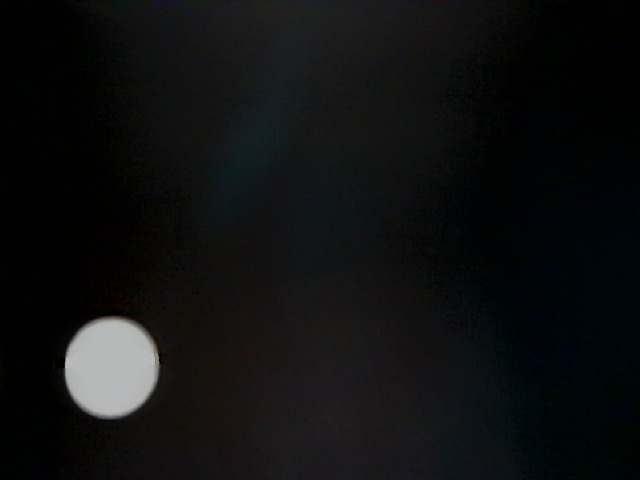KHSLJ: (116, 1, 358, 170)
